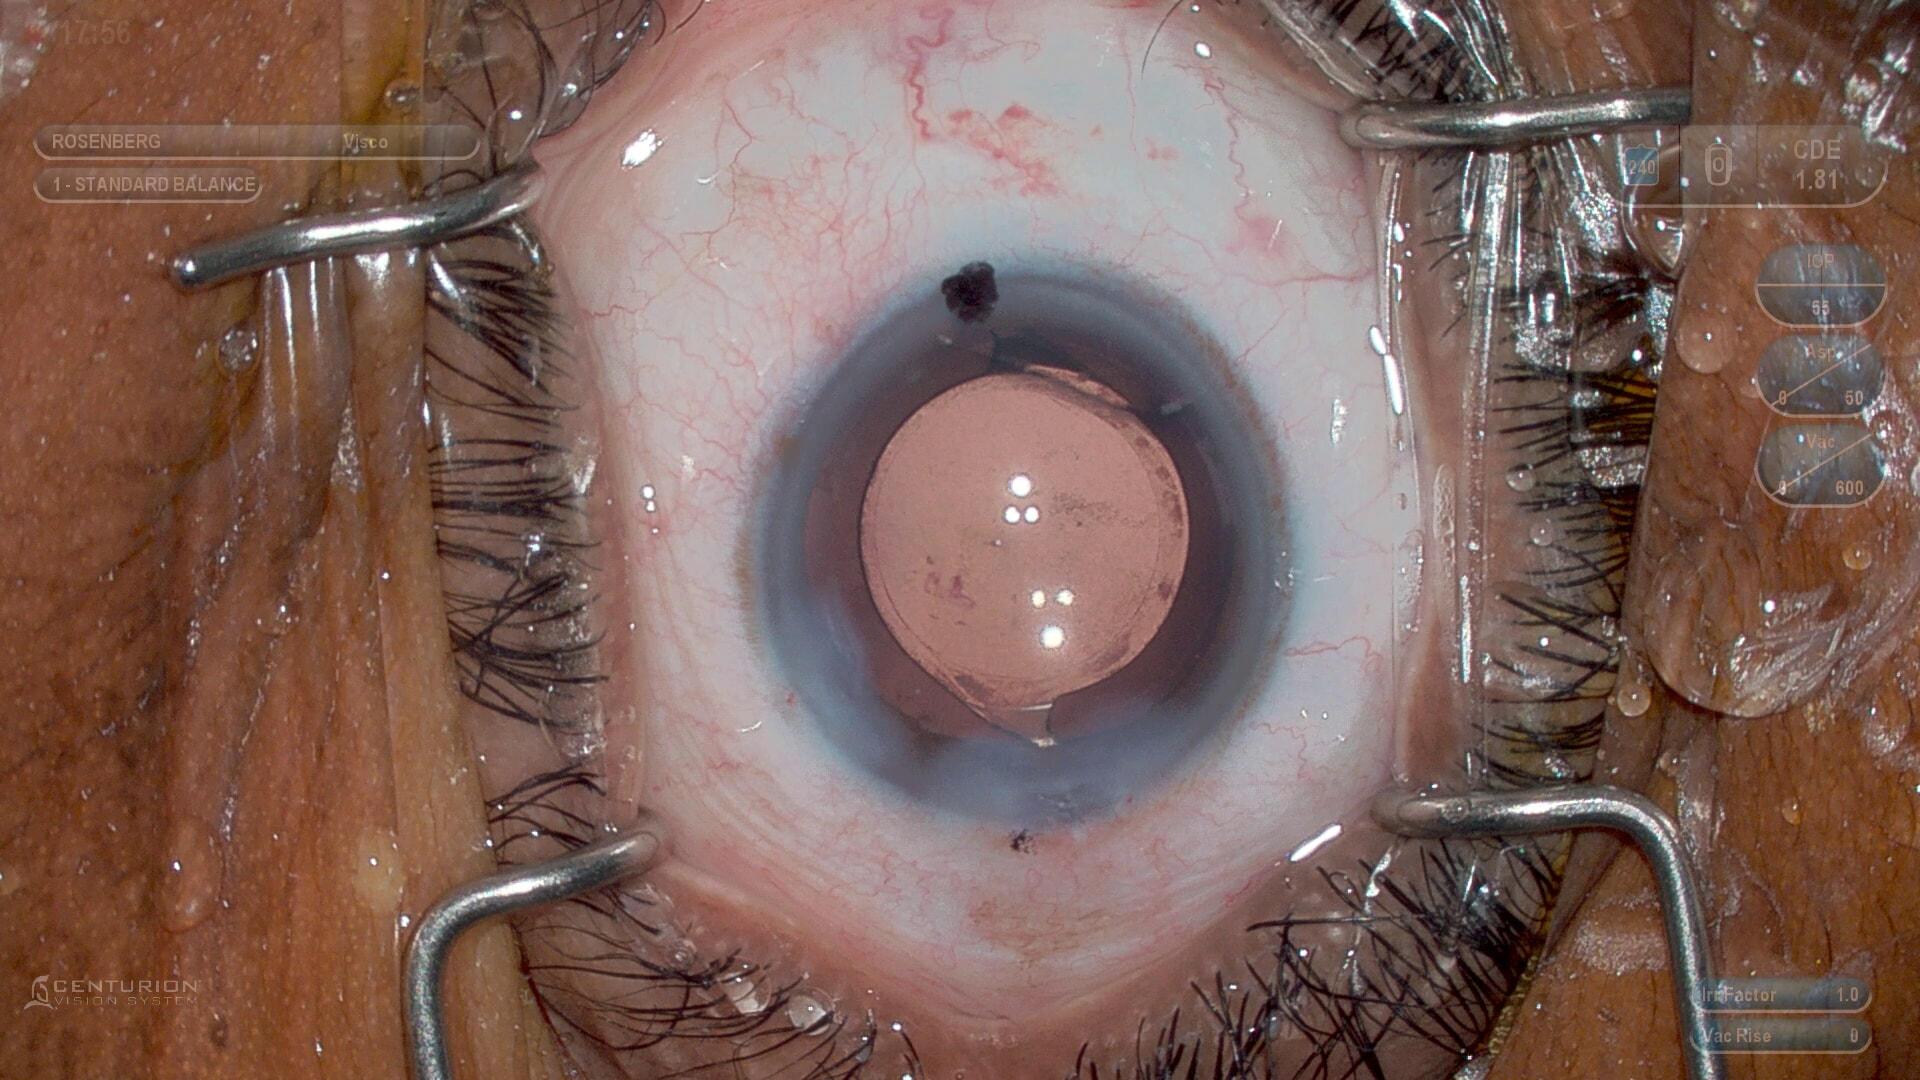iris: (798, 307, 1254, 778)
pupil: (867, 373, 1189, 714)
